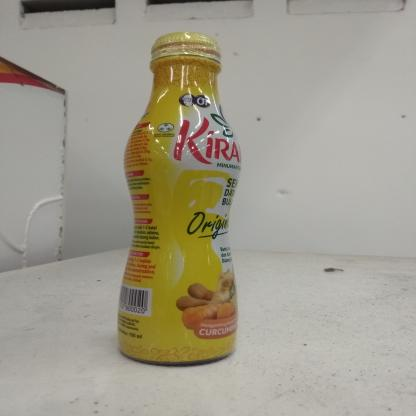glass: (111, 29, 244, 368)
